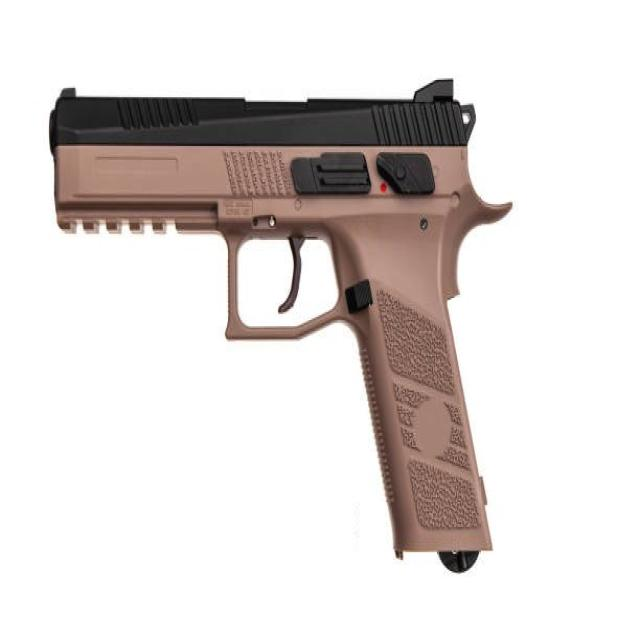pistol: (44, 68, 519, 577)
